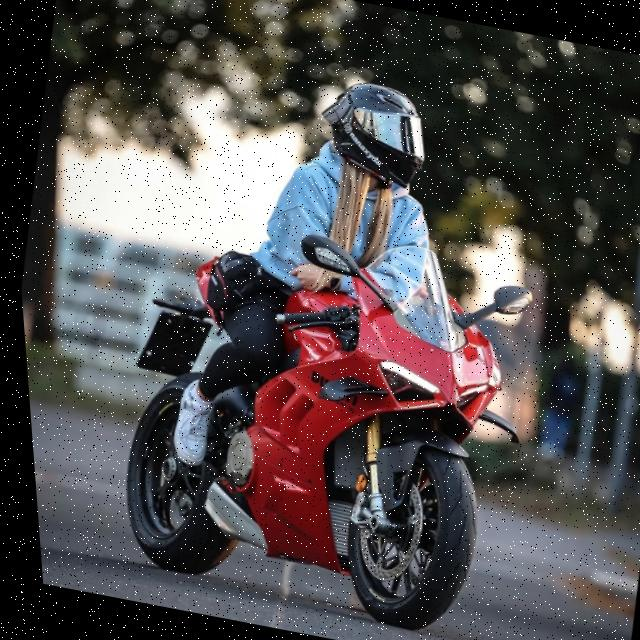helmet: (300, 66, 444, 198)
